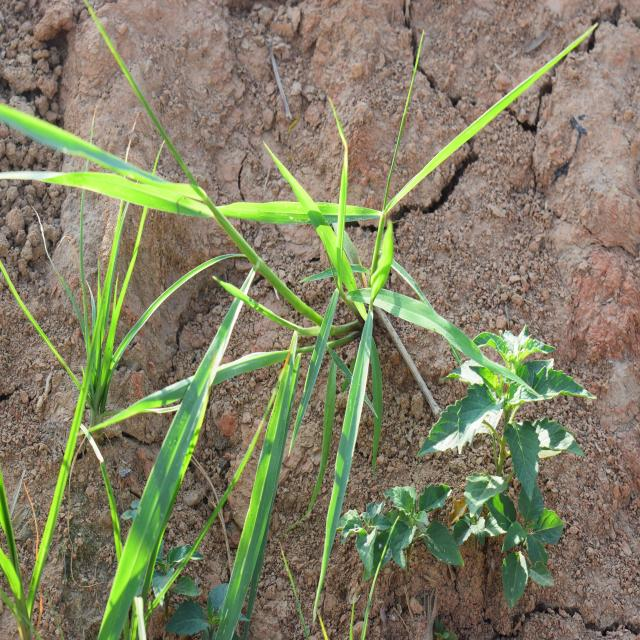green_foxtail: (101, 104, 422, 478)
